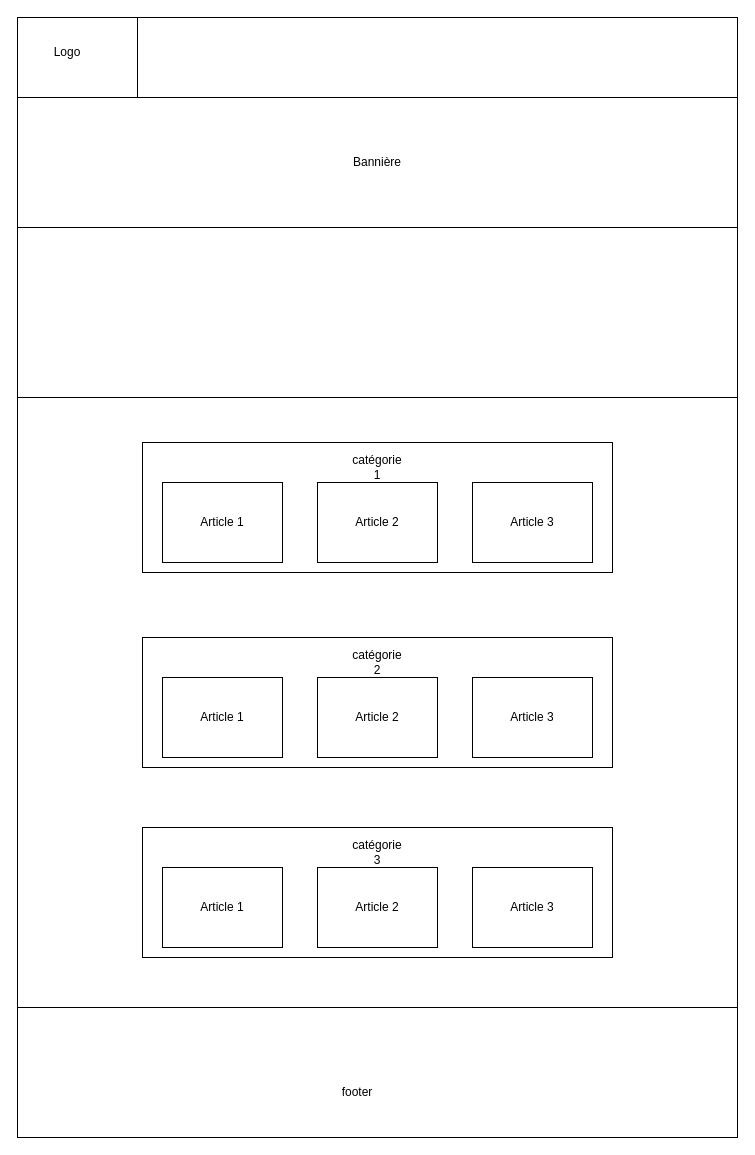
This 755x1155 diagram has some shape labels left out. The shapes that lost their labels are listed below. From the top down, each one's centre as x and y in pixels, then its label:
the point at 437,57: menu
the point at 377,312: Aperçu des produit
